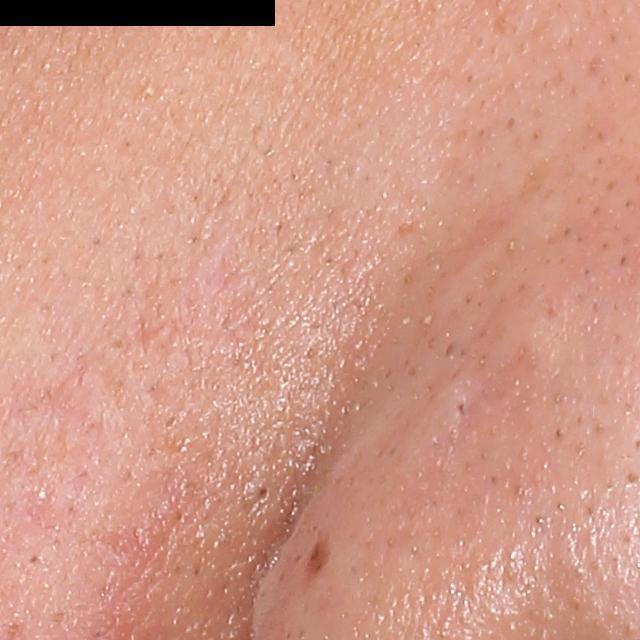comedo: (250, 479, 279, 504), (140, 81, 156, 97)
